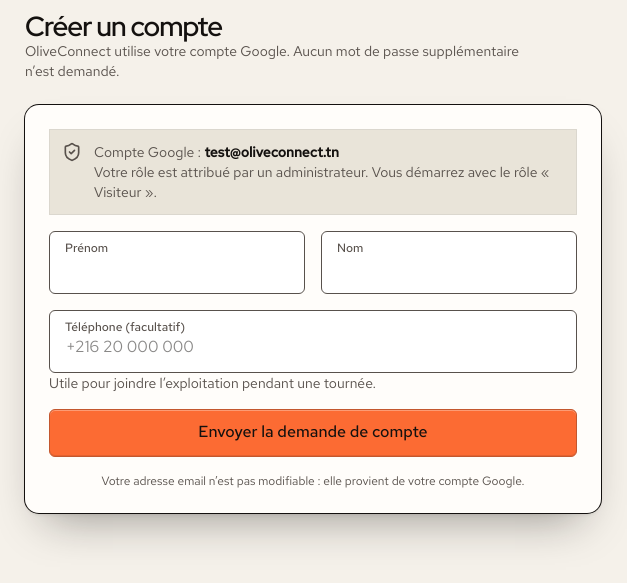
Test: InscriptionPage › valide les champs obligatoires
The width and height of the screenshot is (627, 583).
Click the button "Envoyer la demande de compte" at coordinates (313, 433), box [49, 409, 577, 457]
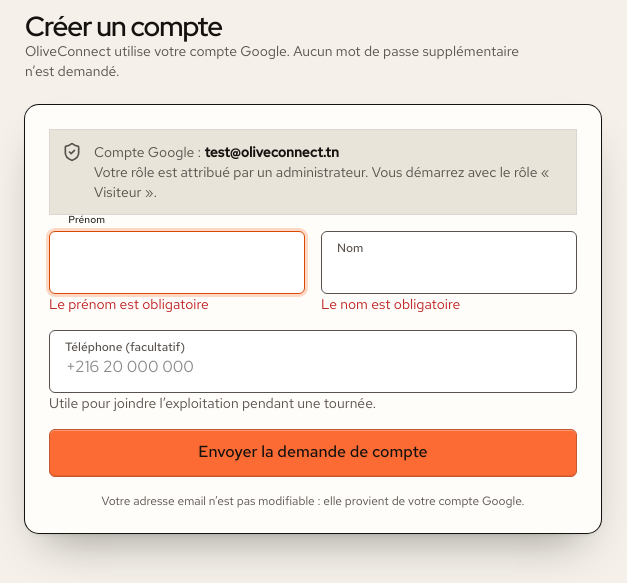
expect the text "Le prénom est obligatoire" is shown: met, box [49, 295, 209, 313]
expect the text "Le nom est obligatoire" is shown: met, box [321, 295, 460, 313]
